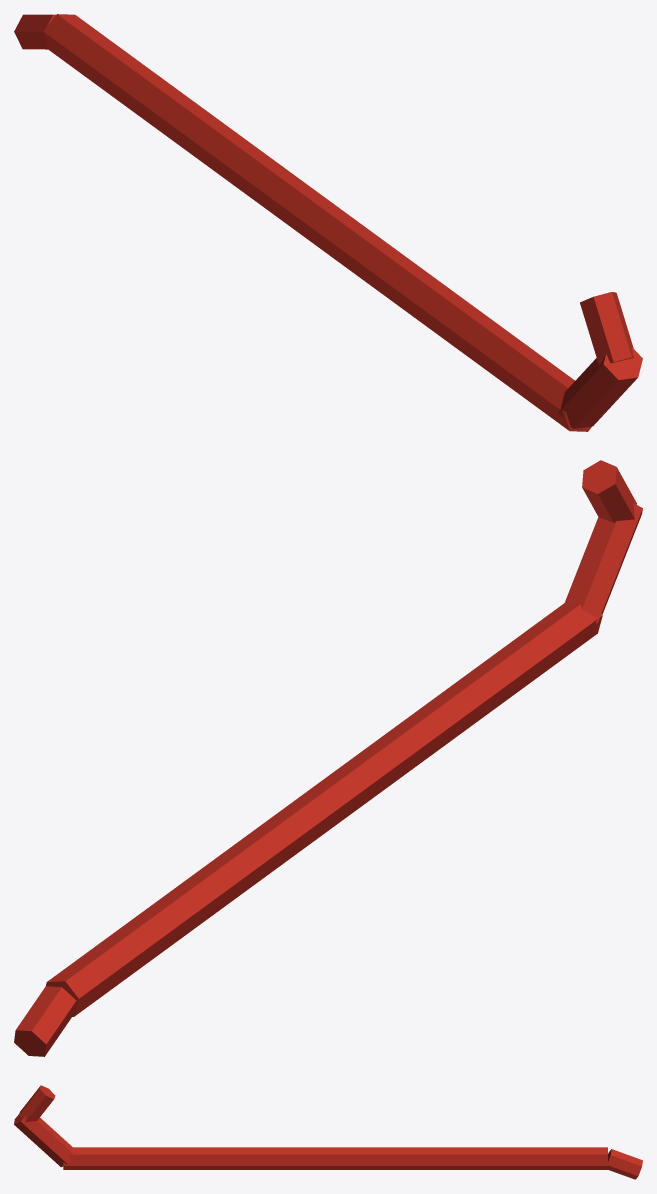
File: crowbar.glb
The picture shows the model from 3 angles, top to bottom: view 1: azimuth 30°, elevation 25°; view 2: azimuth 150°, elevation 25°; view 3: azimuth 270°, elevation 25°; orthographic projection. The views are drawn at different scales.
Parts seen in each view (by area): view 1: crowbar_mesh; view 2: crowbar_mesh; view 3: crowbar_mesh.
Part boxes in pixels (bbox=[...]): crowbar_mesh: bbox=[14, 14, 642, 431]; crowbar_mesh: bbox=[14, 460, 642, 1056]; crowbar_mesh: bbox=[14, 1085, 642, 1179].
Size of the model in its own units: 0.0219 by 0.0963 by 0.6006.
1 material, 1 textured.
